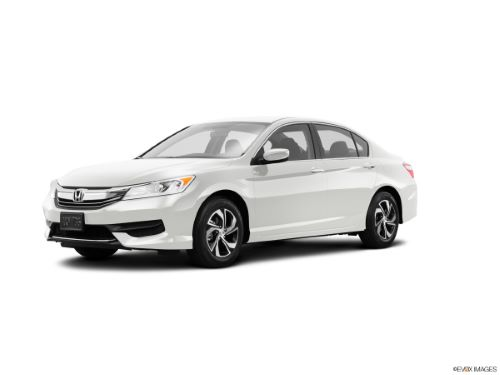sedan: (39, 112, 421, 272)
